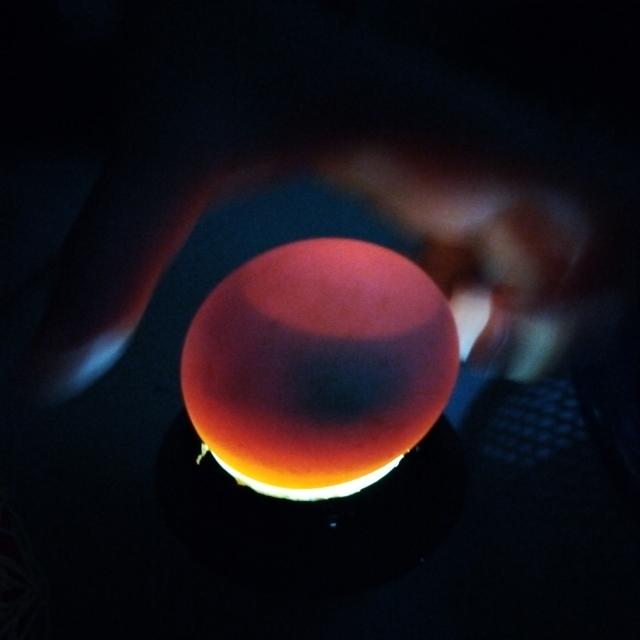Area Infectada: (199, 277, 455, 429)
